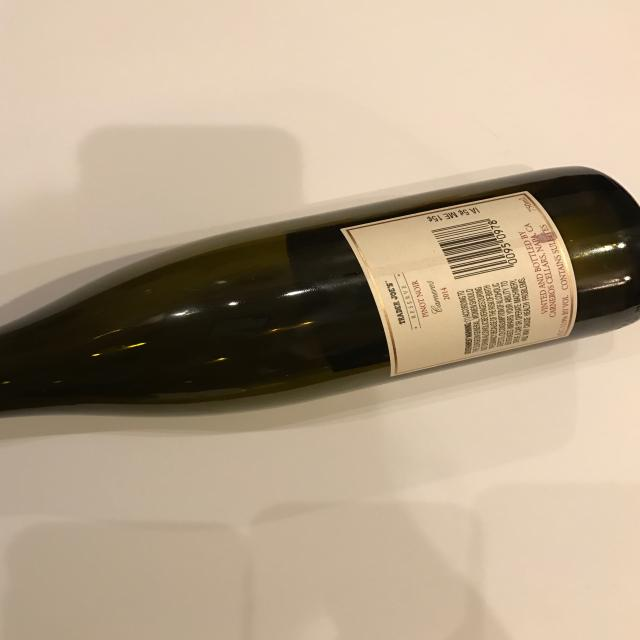glass: (0, 164, 640, 414)
